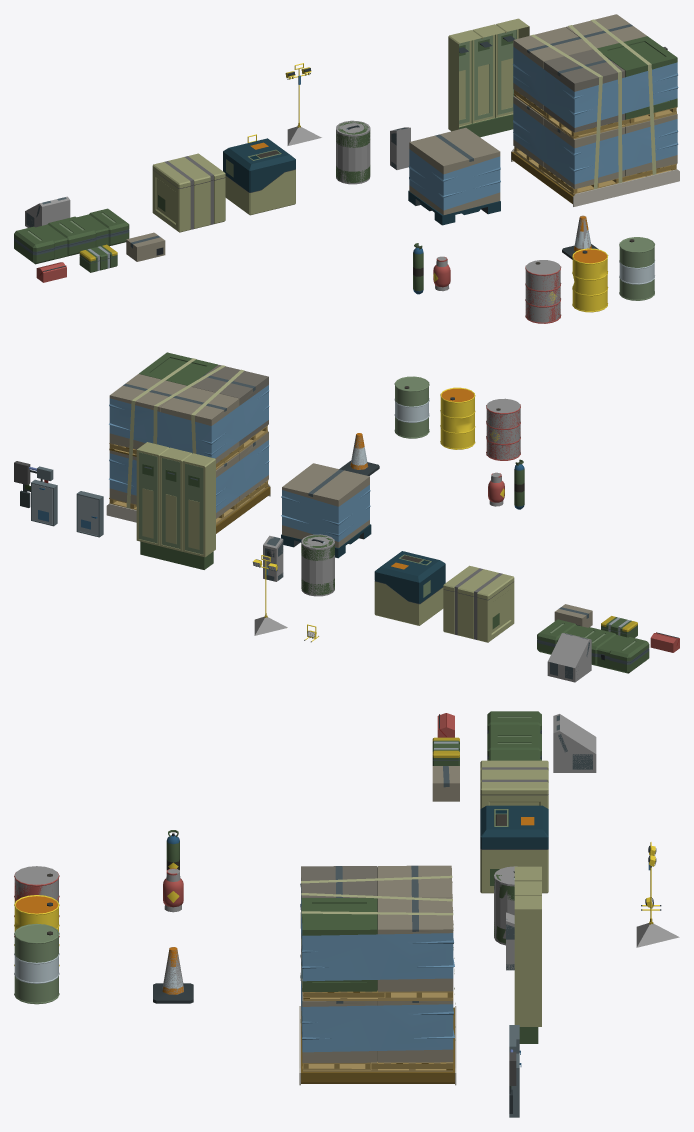
The model's file is DemoFacility_Props.FBX.
The picture shows the model from 3 angles, top to bottom: view 1: azimuth 30°, elevation 25°; view 2: azimuth 150°, elevation 25°; view 3: azimuth 270°, elevation 25°; orthographic projection. The views are drawn at different scales.
Parts seen in each view (by area): view 1: Prop_CargoStack_LargeTall, Prop_Lockers_01, Prop_CargoStack_LargeMid, Prop_Crate_1x1x1_02, Prop_Crate_1x1x1_01, Prop_Crate_MidRect_01, Prop_Barrel03, Prop_Barrel02, PropPhysics_Barrel, PropPhysics_TechBarrel_01, Prop_TechBarrel_01, Prop_Crate_SmallRect_01 (+7 smaller); view 2: Prop_CargoStack_LargeTall, Prop_Lockers_01, Prop_CargoStack_LargeMid, Prop_Crate_1x1x1_02, Prop_Crate_1x1x1_01, Prop_Crate_MidRect_01, Prop_Barrel02, Prop_Barrel03, Prop_WallDecoration_02, PropPhysics_Barrel, PropPhysics_TechBarrel_01, PropPhysics_AmmoCrate_Open (+8 smaller); view 3: Prop_CargoStack_LargeTall, Prop_Crate_1x1x1_01, Prop_Lockers_01, Prop_Barrel03, Prop_Crate_1x1x1_02, Prop_Crate_MidRect_01, PropPhysics_AmmoCrate_Open, Prop_Barrel02, Prop_TrafficCone01, PropPhysics_Barrel, PropPhysics_TechBarrel_01, Prop_Crate_SmallRect_01 (+4 smaller).
Part boxes in pixels (x1,y1,x2,y2): Prop_CargoStack_LargeTall: (511,14,679,206); Prop_Lockers_01: (448,18,529,137); Prop_CargoStack_LargeMid: (408,127,500,225); Prop_Crate_1x1x1_02: (152,153,225,232); Prop_Crate_1x1x1_01: (223,138,295,215); Prop_Crate_MidRect_01: (14,208,129,264); Prop_Barrel03: (619,237,654,300); Prop_Barrel02: (572,248,608,312); PropPhysics_Barrel: (525,260,560,322); PropPhysics_TechBarrel_01: (336,120,370,184); Prop_TechBarrel_01: (336,121,370,182); Prop_Crate_SmallRect_01: (126,232,165,261); Prop_CargoStack_LargeTall: (106,352,270,533); Prop_Lockers_01: (136,442,215,569); Prop_CargoStack_LargeMid: (281,463,371,558); Prop_Crate_1x1x1_02: (443,565,514,642); Prop_Crate_1x1x1_01: (374,551,445,625); Prop_Crate_MidRect_01: (537,619,649,673); Prop_Barrel02: (440,387,475,449); Prop_Barrel03: (394,376,429,438); Prop_WallDecoration_02: (14,461,57,526); PropPhysics_Barrel: (486,398,520,459); PropPhysics_TechBarrel_01: (301,534,334,596); PropPhysics_AmmoCrate_Open: (547,633,591,682); Prop_CargoStack_LargeTall: (299,865,456,1085); Prop_Crate_1x1x1_01: (480,805,548,893); Prop_Lockers_01: (514,866,541,1043); Prop_Barrel03: (14,923,59,1004); Prop_Crate_1x1x1_02: (480,760,548,808); Prop_Crate_MidRect_01: (487,711,541,760); PropPhysics_AmmoCrate_Open: (553,714,596,772); Prop_Barrel02: (14,895,59,966); Prop_TrafficCone01: (153,947,193,1003); PropPhysics_Barrel: (14,866,58,902); PropPhysics_TechBarrel_01: (494,866,517,945); Prop_Crate_SmallRect_01: (432,766,459,801).
Bounding box in the file's own units: 13.9 × 9.76 × 2.51.
